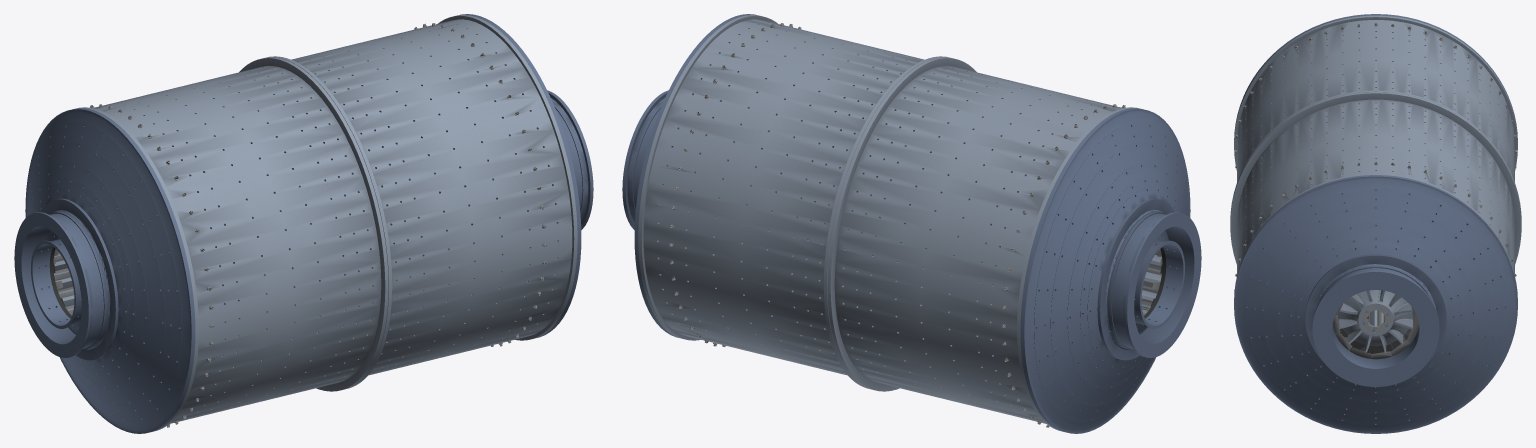
File: mill-ball-explode.glb
3 views of the same model, side by side, from view 1: azimuth 30°, elevation 25°; view 2: azimuth 150°, elevation 25°; view 3: azimuth 270°, elevation 25° (orthographic). The views are drawn at different scales.
Parts seen in each view (by area): view 1: millShell:shell-top, millHead:feed-head, millShell:shell-bottom, millHead:discharge-head, bolt:fasteners; view 2: millShell:shell-top, millHead:feed-head, millShell:shell-bottom, millHead:discharge-head, bolt:fasteners; view 3: millHead:discharge-head, millShell:shell-top, millShell:shell-bottom, metal:discharge, bolt:fasteners, millHead:feed-head.
Boxes of the visible parts, x1=… form: millShell:shell-top: x1=78, y1=15, x2=577, y2=331; millHead:feed-head: x1=14, y1=108, x2=195, y2=433; millShell:shell-bottom: x1=54, y1=237, x2=577, y2=430; millHead:discharge-head: x1=457, y1=14, x2=593, y2=337; bolt:fasteners: x1=90, y1=23, x2=546, y2=427; millShell:shell-top: x1=638, y1=15, x2=1137, y2=331; millHead:feed-head: x1=1020, y1=108, x2=1201, y2=433; millShell:shell-bottom: x1=638, y1=237, x2=1161, y2=430; millHead:discharge-head: x1=622, y1=14, x2=758, y2=337; bolt:fasteners: x1=669, y1=23, x2=1125, y2=427; millHead:discharge-head: x1=1234, y1=175, x2=1517, y2=433; millShell:shell-top: x1=1230, y1=15, x2=1521, y2=319; millShell:shell-bottom: x1=1230, y1=145, x2=1521, y2=353; metal:discharge: x1=1311, y1=189, x2=1440, y2=359; bolt:fasteners: x1=1234, y1=23, x2=1517, y2=332; millHead:feed-head: x1=1234, y1=14, x2=1517, y2=139.
Size of the model in its own units: 14.49 by 8.48 by 8.48.
10 materials, 7 textured.
